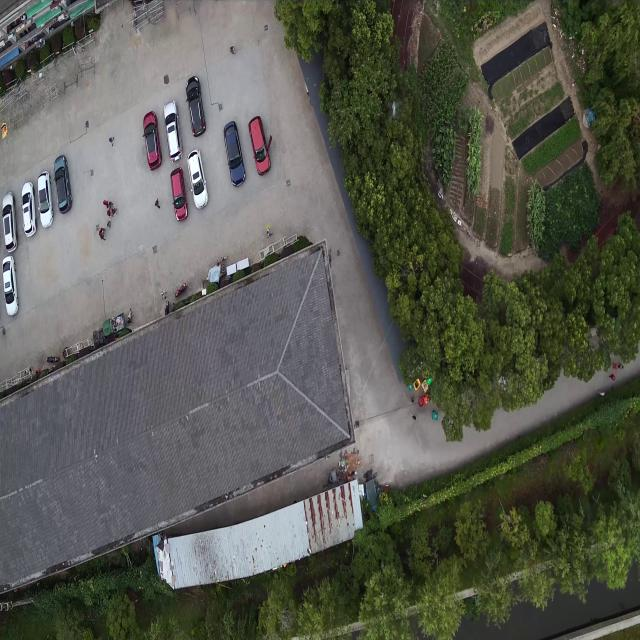UAV: (386, 98, 402, 122)
